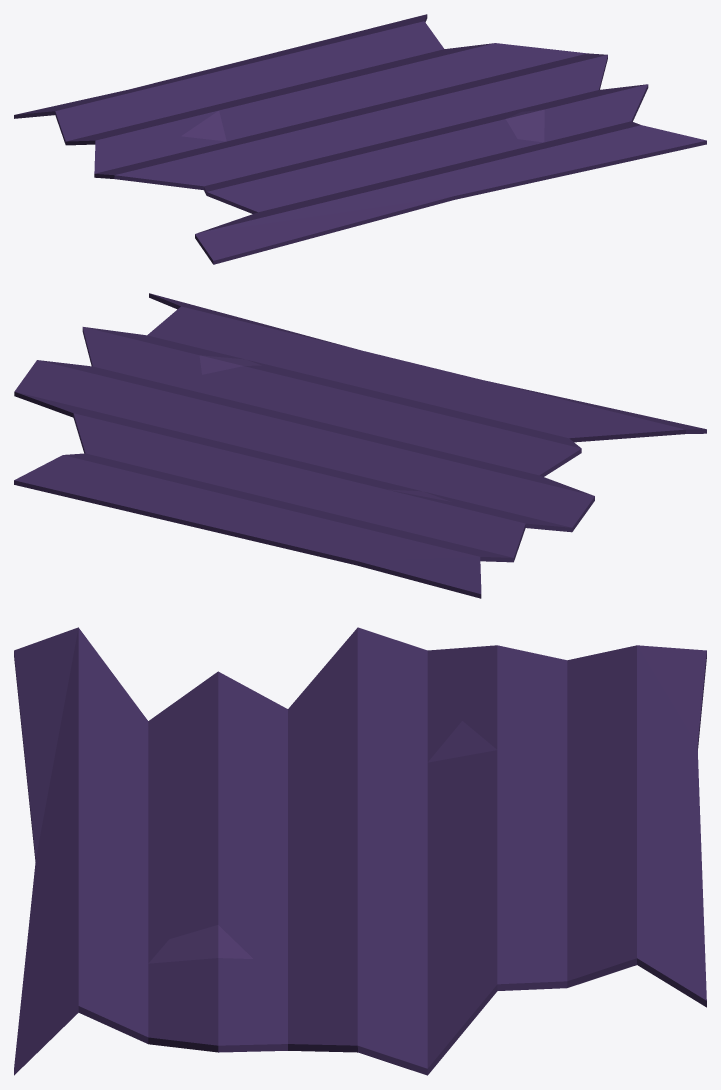
The model's file is SheetMetal_D_2.fbx.
The picture shows the model from 3 angles, top to bottom: view 1: azimuth 30°, elevation 25°; view 2: azimuth 150°, elevation 25°; view 3: azimuth 270°, elevation 25°; orthographic projection. The views are drawn at different scales.
Visible parts, largest first — view 1: SheetMetal_D_2; view 2: SheetMetal_D_2; view 3: SheetMetal_D_2.
Part boxes in pixels (x1,y1,x2,y2): SheetMetal_D_2: [14, 14, 706, 264]; SheetMetal_D_2: [14, 293, 706, 598]; SheetMetal_D_2: [14, 627, 706, 1075].
Bounding box in the file's own units: 137 × 4.58 × 96.05.
